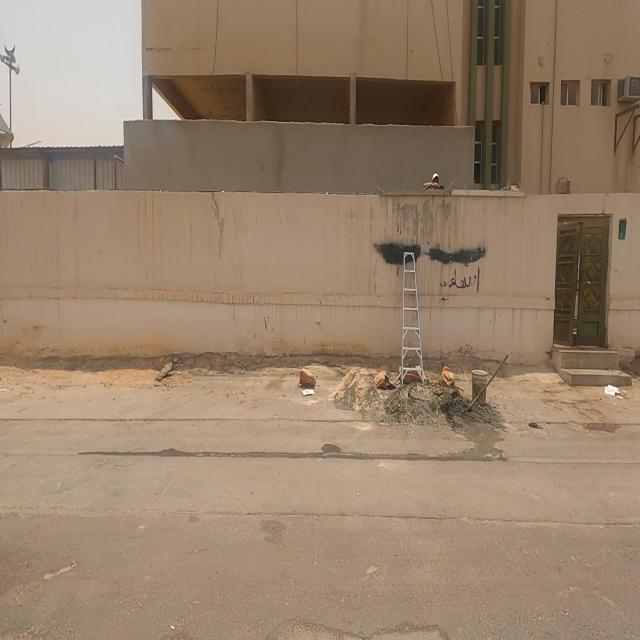Graffiti: (427, 244, 486, 266), (441, 270, 480, 295), (374, 243, 404, 268), (414, 242, 421, 262), (404, 244, 416, 252)
